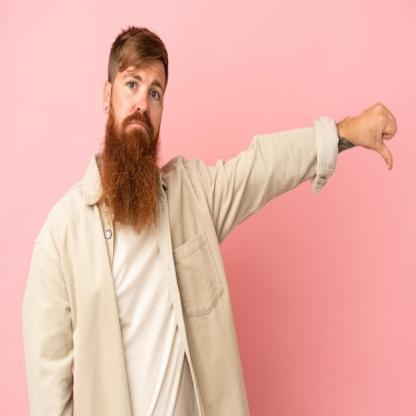thumb_down: (353, 98, 399, 176)
